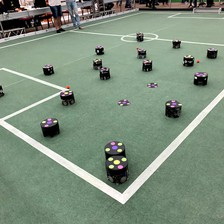ball: (63, 83, 70, 89), (194, 57, 198, 61)
goal: (191, 5, 222, 15)
robot: (103, 152, 127, 183), (38, 115, 59, 136), (162, 98, 180, 119), (103, 138, 125, 155), (57, 88, 75, 106), (190, 68, 208, 85), (203, 45, 217, 59), (140, 58, 154, 72), (98, 66, 112, 80), (182, 52, 194, 66), (91, 56, 103, 70), (41, 63, 54, 75), (134, 45, 145, 59), (169, 36, 180, 47), (92, 43, 103, 54), (134, 33, 144, 41)
